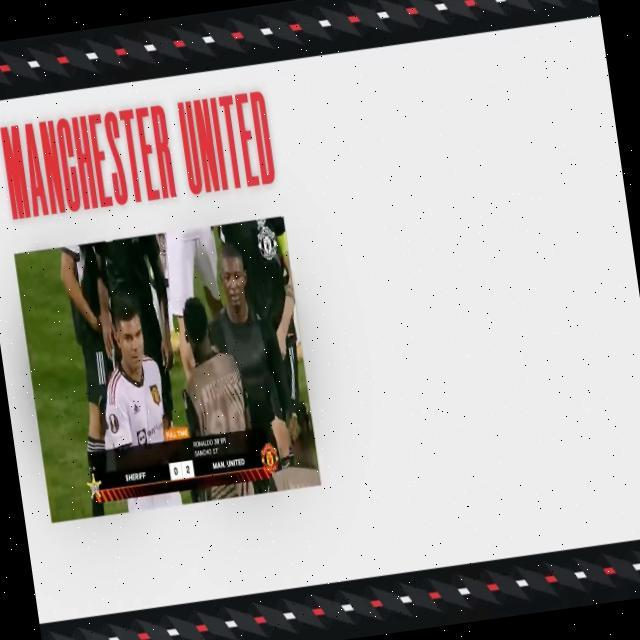Adidas: (131, 400, 142, 415)
